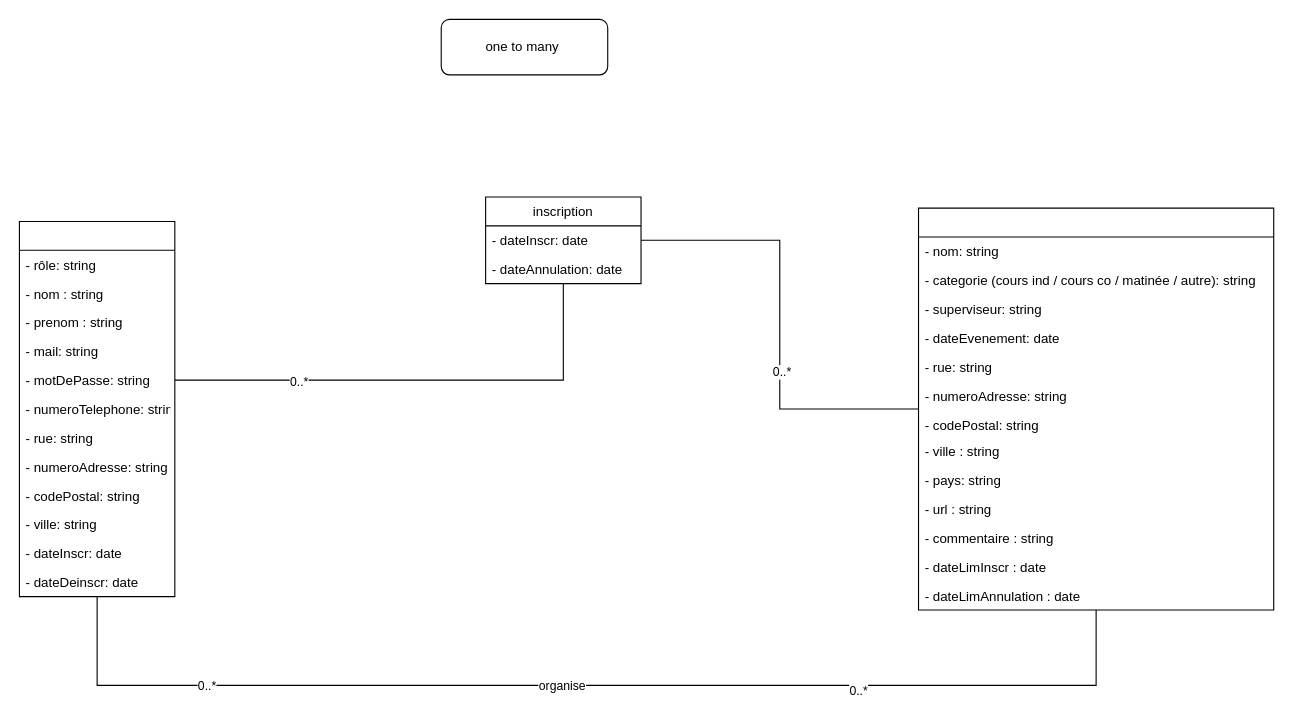
This 1293x717 diagram has some shape labels left out. Here are the shapes that lost their labels. From the top down, the box of each, then its label:
(18, 220, 175, 597): User
(917, 207, 1274, 610): Evement
